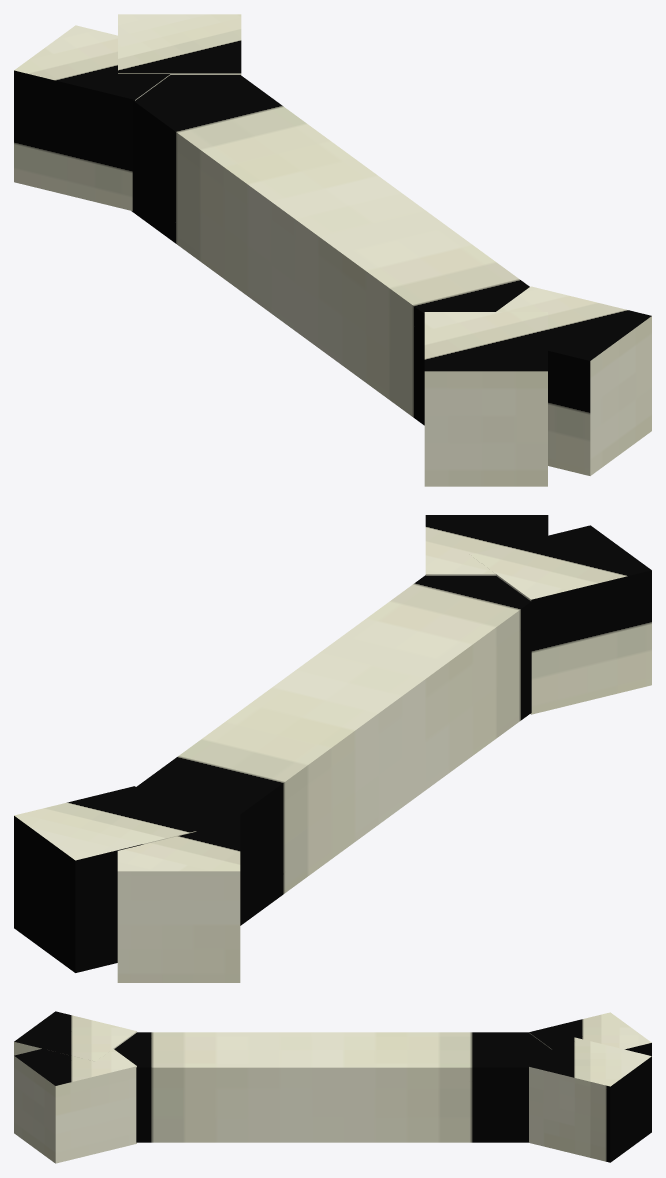
Rendered from Bone.fbx.
3 renders of one model, top to bottom at view 1: azimuth 30°, elevation 25°; view 2: azimuth 150°, elevation 25°; view 3: azimuth 270°, elevation 25°, orthographic. The views are drawn at different scales.
Parts seen in each view (by area): view 1: polySurface6; view 2: polySurface6; view 3: polySurface6.
Boxes of the visible parts, x1=… form: polySurface6: x1=14, y1=14, x2=651, y2=486; polySurface6: x1=14, y1=515, x2=651, y2=982; polySurface6: x1=14, y1=1011, x2=651, y2=1163.
Size of the model in its own units: 0.2083 by 0.1005 by 0.748.
